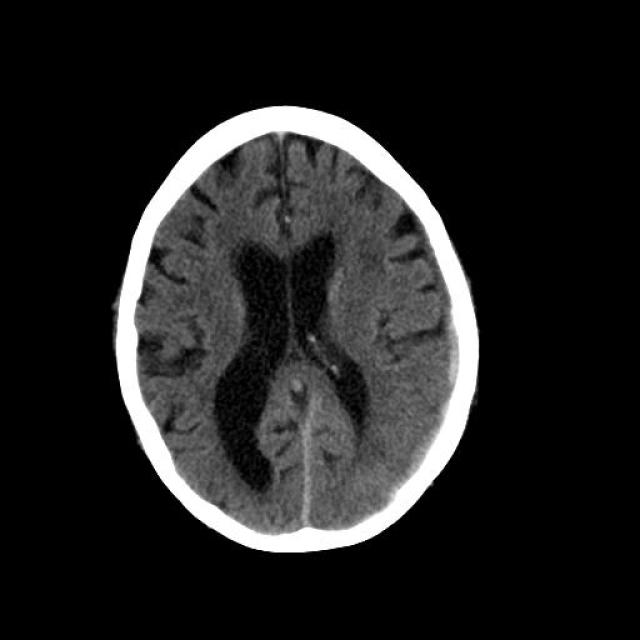Subdural: (382, 284, 492, 510), (280, 397, 339, 535)
